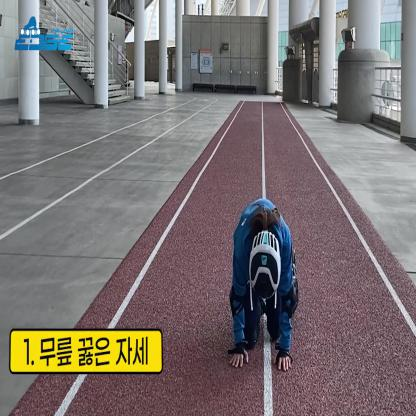Fall_Down: (229, 199, 298, 373)
